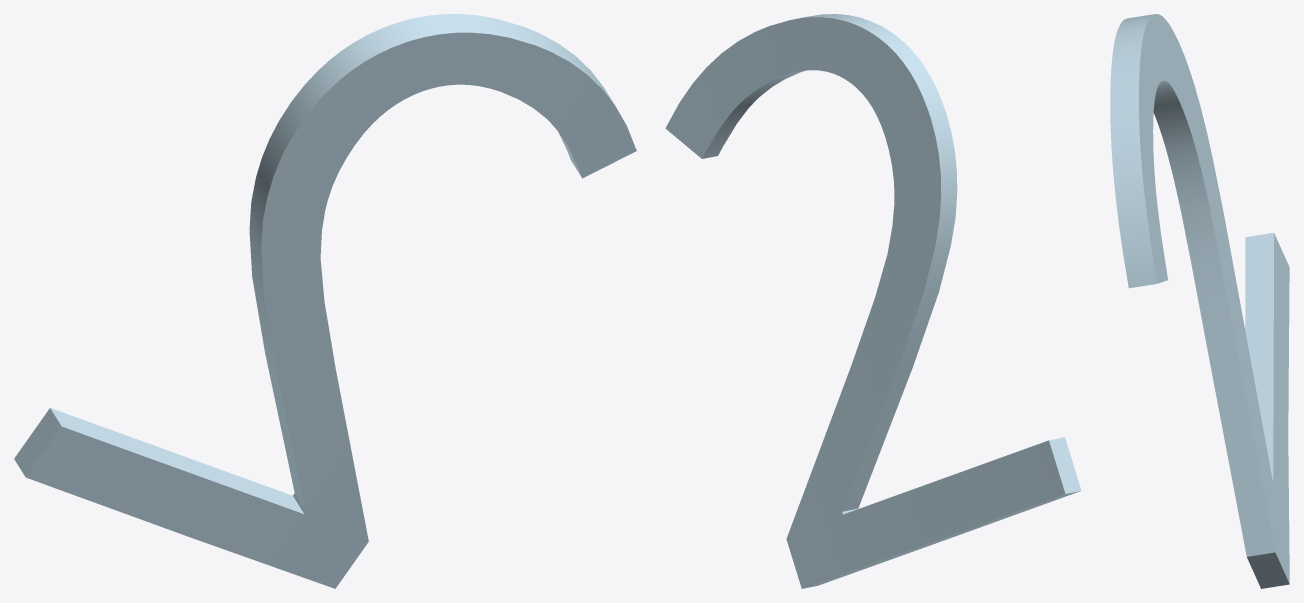
File: Number_2.gltf
3 views of the same model, side by side, from view 1: azimuth 30°, elevation 25°; view 2: azimuth 150°, elevation 25°; view 3: azimuth 270°, elevation 25° (orthographic). The views are drawn at different scales.
Parts seen in each view (by area): view 1: Sub_5_Cell_3_2_Number_2; view 2: Sub_5_Cell_3_2_Number_2; view 3: Sub_5_Cell_3_2_Number_2.
Part boxes in pixels (bbox=[...]): Sub_5_Cell_3_2_Number_2: bbox=[14, 14, 636, 588]; Sub_5_Cell_3_2_Number_2: bbox=[665, 14, 1081, 588]; Sub_5_Cell_3_2_Number_2: bbox=[1110, 14, 1289, 588].
Size of the model in its own units: 0.0252 by 0.027 by 0.00768.
